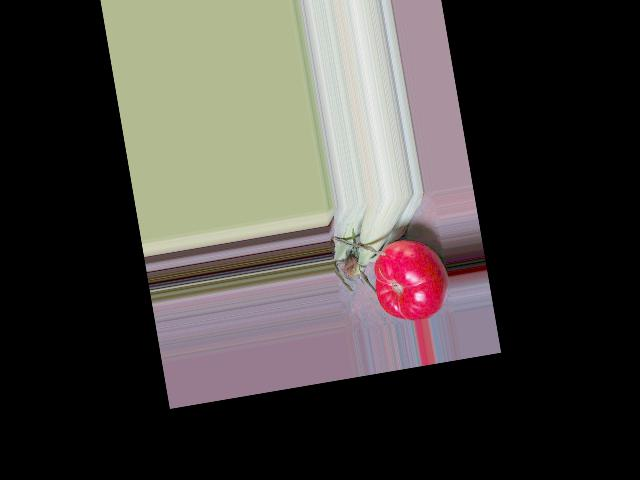tomato: (368, 233, 454, 325)
